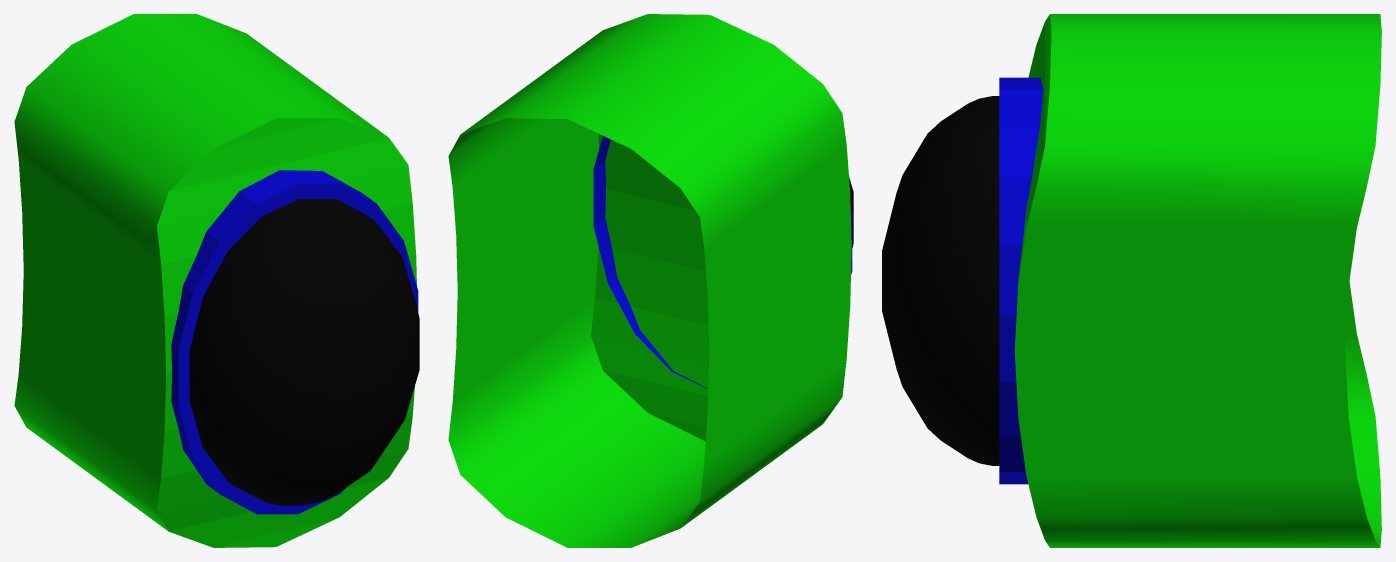
The model's file is CameraBot_LVL2.FBX.
3 views of the same model, side by side, from view 1: azimuth 30°, elevation 25°; view 2: azimuth 150°, elevation 25°; view 3: azimuth 270°, elevation 25° (orthographic). The views are drawn at different scales.
Parts seen in each view (by area): view 1: CameraBot_LVL2; view 2: CameraBot_LVL2; view 3: CameraBot_LVL2.
Boxes of the visible parts, box(x1,y1,x2,y2) form: CameraBot_LVL2: box(14, 14, 419, 547); CameraBot_LVL2: box(448, 14, 853, 547); CameraBot_LVL2: box(882, 14, 1381, 547).
Bounding box in the file's own units: 17.55 × 28.59 × 26.03.
